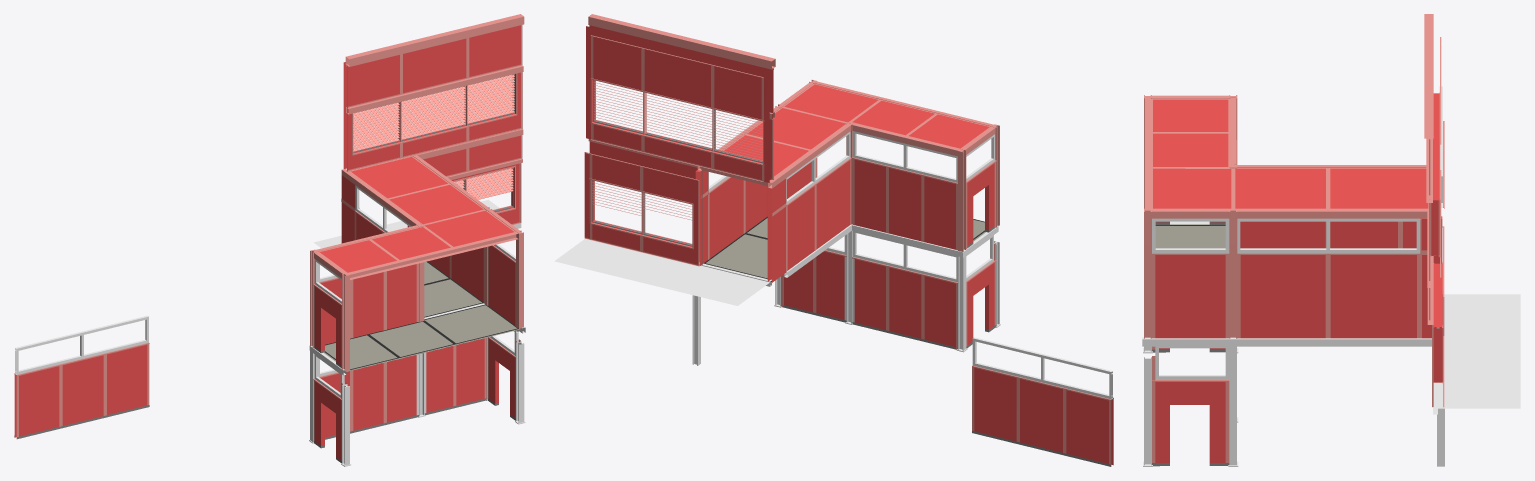
Rendered from SM_H_Building_Tide_Jail_A_01b_ATLAS.fbx.
3 views of the same model, side by side, from view 1: azimuth 30°, elevation 25°; view 2: azimuth 150°, elevation 25°; view 3: azimuth 270°, elevation 25° (orthographic). The views are drawn at different scales.
Parts seen in each view (by area): view 1: SM_H_Building_Tide_Jail_A_01b_ATLAS; view 2: SM_H_Building_Tide_Jail_A_01b_ATLAS; view 3: SM_H_Building_Tide_Jail_A_01b_ATLAS.
Boxes of the visible parts, bbox=[...] form: SM_H_Building_Tide_Jail_A_01b_ATLAS: bbox=[14, 14, 525, 466]; SM_H_Building_Tide_Jail_A_01b_ATLAS: bbox=[554, 14, 1113, 466]; SM_H_Building_Tide_Jail_A_01b_ATLAS: bbox=[1142, 14, 1520, 466].
Bounding box in the file's own units: 2948 × 1433 × 1701.
